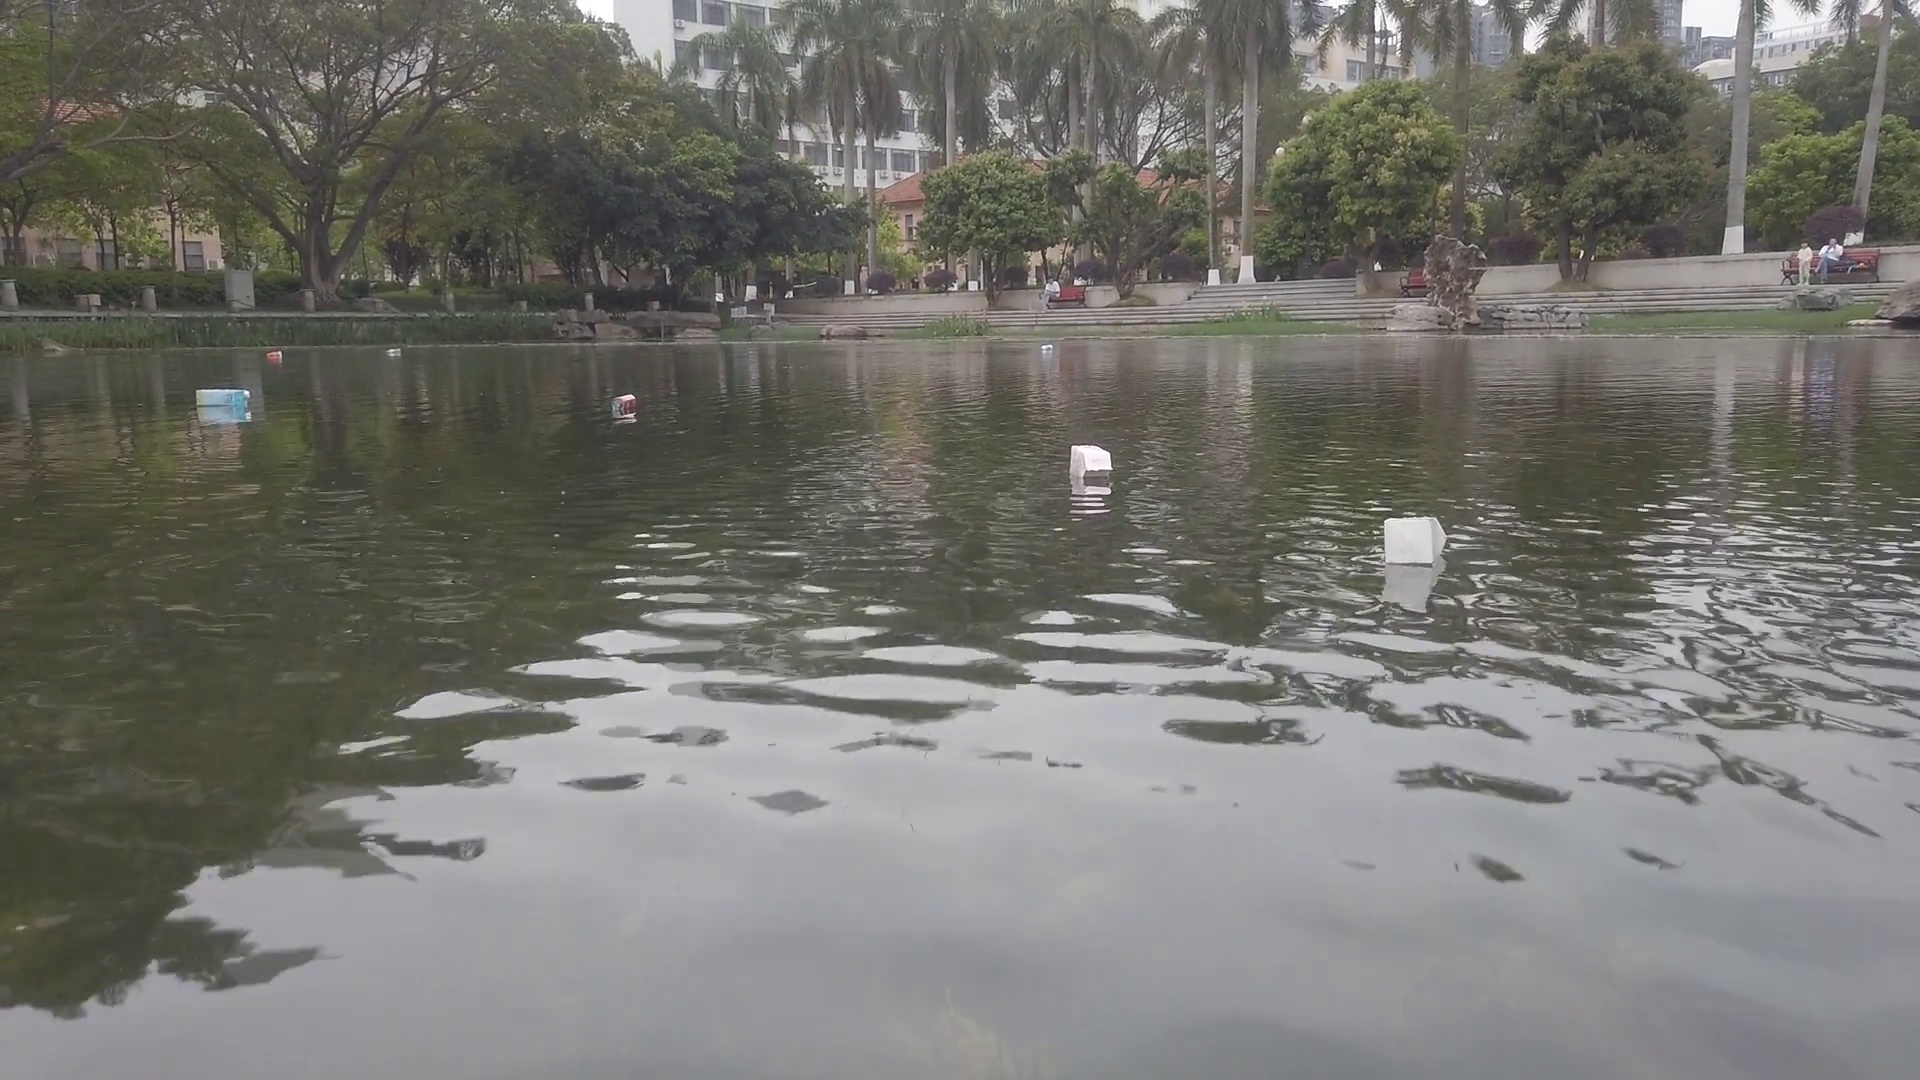bottle: (612, 392, 638, 411), (268, 349, 282, 363), (386, 348, 404, 357), (1040, 344, 1055, 349)
carton: (1385, 516, 1445, 564), (1068, 442, 1116, 485), (195, 388, 251, 407)
